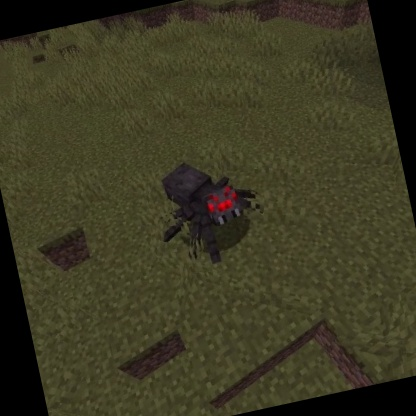spider: (145, 144, 277, 279)
